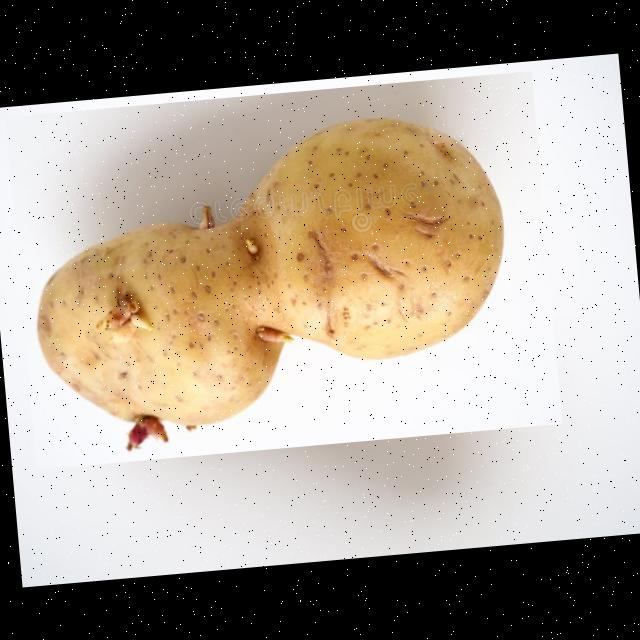Damaged potato: (5, 70, 562, 470)
